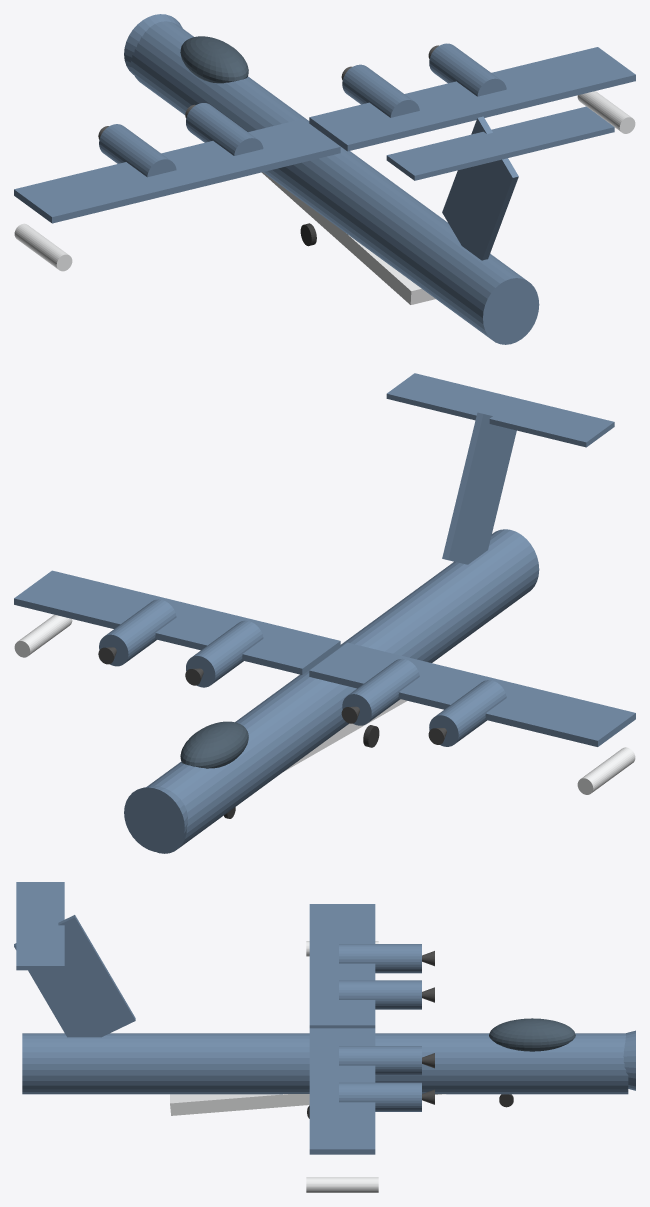
File: shinmaywa_us2.glb
The picture shows the model from 3 angles, top to bottom: view 1: azimuth 30°, elevation 25°; view 2: azimuth 150°, elevation 25°; view 3: azimuth 270°, elevation 25°; orthographic projection. The views are drawn at different scales.
Parts seen in each view (by area): view 1: US2_Fuselage, Cube.002, Cube.001, Cube, US2_VFin, Sphere, US2_Boat_Keel, Cylinder.002, Cylinder.001, Cylinder.005, Cylinder.004, Cylinder.003 (+2 smaller); view 2: US2_Fuselage, Cube.002, Cube.001, Cube, US2_VFin, Cone, Cylinder.001, Cylinder.002, Cylinder.005, Cylinder.004, Sphere, Cylinder.003 (+1 smaller); view 3: US2_Fuselage, Cube.001, Cube.002, US2_VFin, Cube, US2_Boat_Keel, Sphere, Cylinder.002, Cylinder.001, Cylinder.004, Cylinder.005, Cylinder (+1 smaller).
Part boxes in pixels (x1,y1,x2,y2): US2_Fuselage: [130, 21, 539, 344]; Cube.002: [14, 119, 340, 223]; Cube.001: [309, 47, 635, 151]; Cube: [386, 106, 614, 180]; US2_VFin: [442, 116, 518, 260]; Sphere: [180, 36, 248, 83]; US2_Boat_Keel: [262, 172, 435, 304]; Cylinder.002: [429, 43, 506, 96]; Cylinder.001: [342, 64, 419, 117]; Cylinder.005: [99, 124, 176, 177]; Cylinder.004: [186, 103, 263, 155]; Cylinder.003: [14, 223, 72, 271]; US2_Fuselage: [147, 529, 539, 853]; Cube.002: [309, 642, 635, 746]; Cube.001: [14, 570, 340, 674]; Cube: [386, 373, 614, 447]; US2_VFin: [442, 412, 516, 564]; Cone: [124, 786, 187, 852]; Cylinder.001: [186, 620, 263, 687]; Cylinder.002: [99, 599, 176, 666]; Cylinder.005: [429, 680, 506, 746]; Cylinder.004: [342, 658, 419, 725]; Sphere: [180, 721, 248, 768]; Cylinder.003: [577, 747, 635, 794]; US2_Fuselage: [22, 1033, 628, 1094]; Cube.001: [309, 1028, 375, 1154]; Cube.002: [309, 904, 375, 1028]; US2_VFin: [14, 915, 135, 1037]; Cube: [16, 882, 64, 970]; US2_Boat_Keel: [170, 1094, 445, 1115]; Sphere: [489, 1018, 575, 1051]; Cylinder.002: [339, 1082, 421, 1111]; Cylinder.001: [339, 1046, 421, 1075]; Cylinder.004: [339, 980, 421, 1009]; Cylinder.005: [339, 944, 421, 973]; Cylinder: [306, 1177, 378, 1192].
Size of the model in its own units: 33.6 by 12.41 by 36.03.
